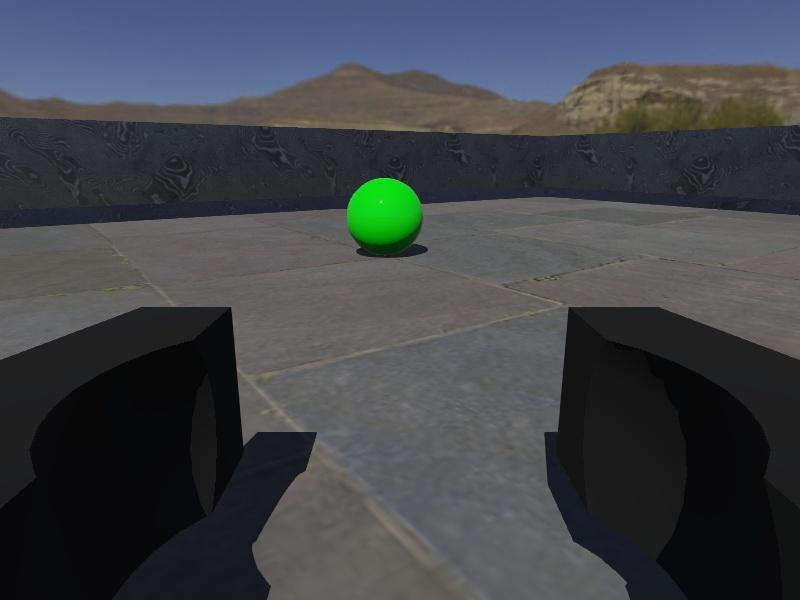green ball: (345, 177, 424, 256)
